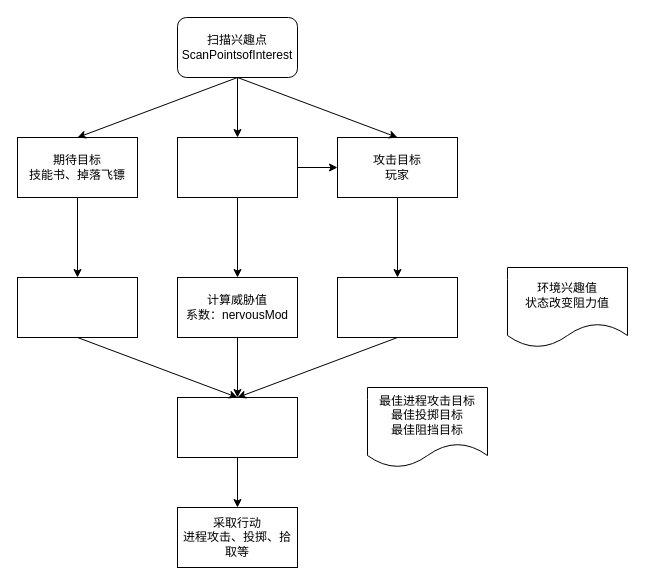
Image size: 645x585. Some labels were removed from this diagram. Here are the shapes that lost their labels. From the top down, the box of each, then its label:
(176, 136, 298, 198): 威胁目标 玩家、飞镖、火焰
(16, 276, 138, 338): 计算期待值 系数：greedyMod
(336, 276, 458, 338): 计算攻击值 系数：agreesionMod
(176, 396, 298, 458): 各个值比较 状态机切换 更新各类最佳目标 更新行为
